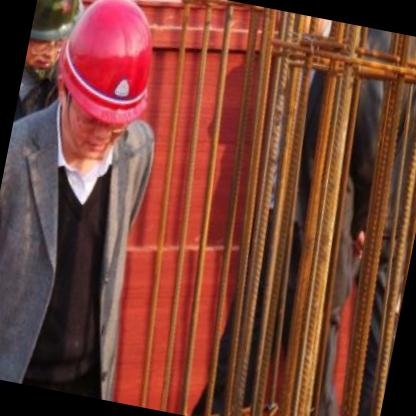bee: (39, 0, 166, 169), (231, 1, 332, 50), (23, 0, 87, 76)
